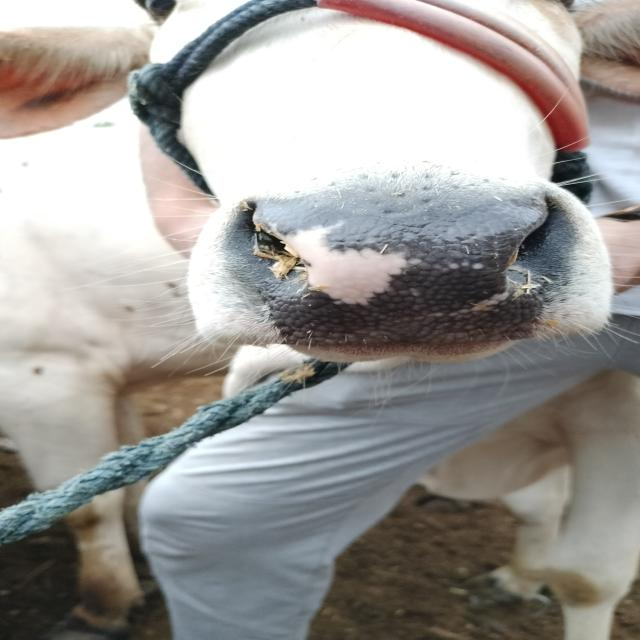muzzles: (216, 182, 592, 347)
